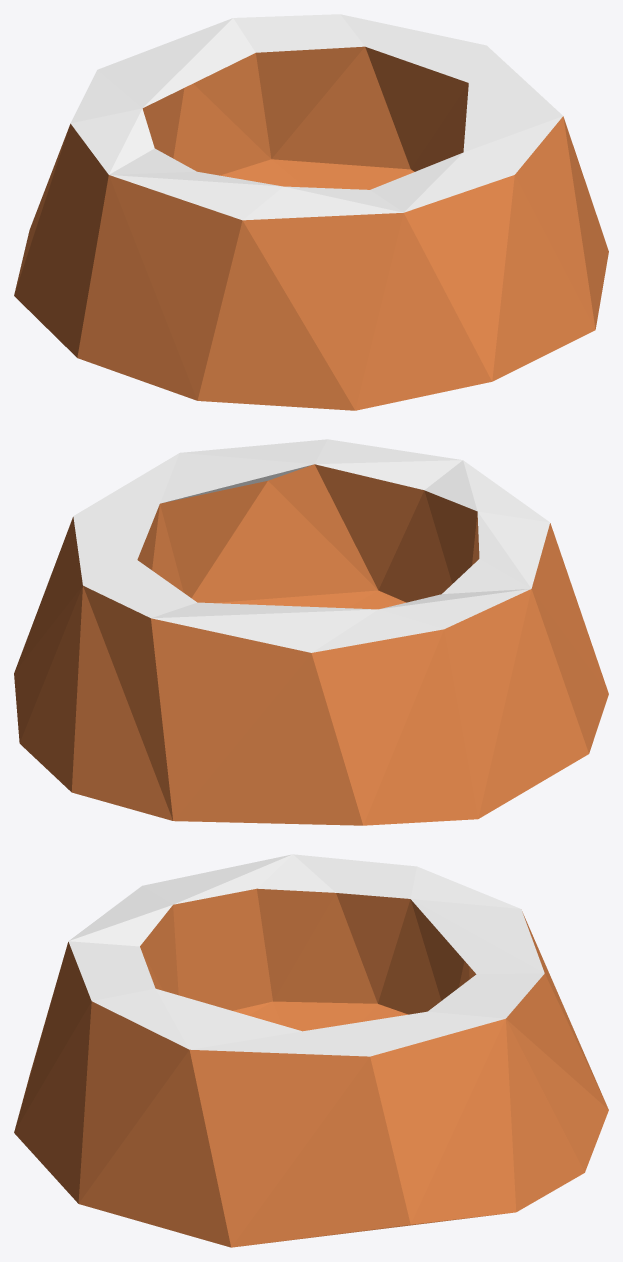
File: dogbowl.fbx
3 renders of one model, top to bottom at view 1: azimuth 30°, elevation 25°; view 2: azimuth 150°, elevation 25°; view 3: azimuth 270°, elevation 25°, orthographic.
Parts seen in each view (by area): view 1: Cylinder; view 2: Cylinder; view 3: Cylinder.
Part boxes in pixels (x1,y1,x2,y2): Cylinder: (14,14,608,410); Cylinder: (14,439,608,825); Cylinder: (14,854,608,1247).
Size of the model in its own units: 0.4953 by 0.1616 by 0.5021.
